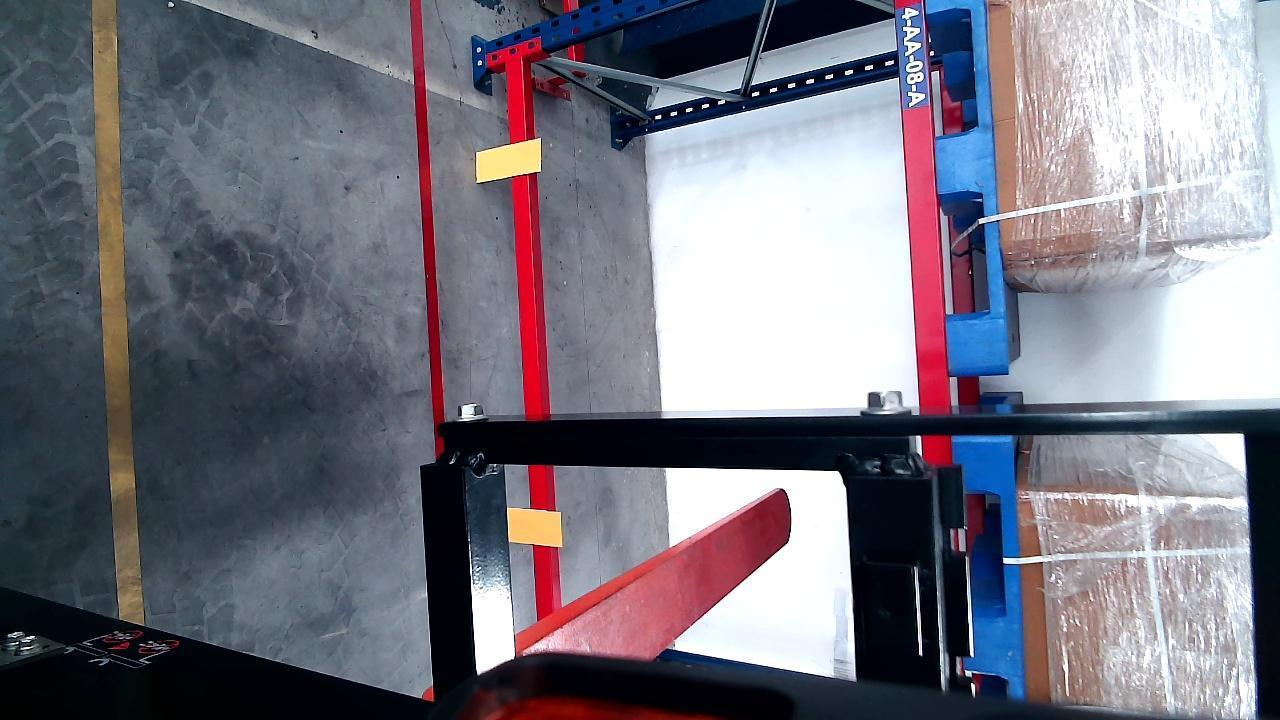h_rack: (506, 54, 560, 618), (893, 0, 944, 416)
orange_strip: (475, 140, 540, 181), (507, 507, 562, 545)
red_line: (409, 2, 443, 422)
small_pallet: (927, 0, 1006, 370), (955, 437, 1026, 689)
yellow_line: (90, 0, 145, 627)
